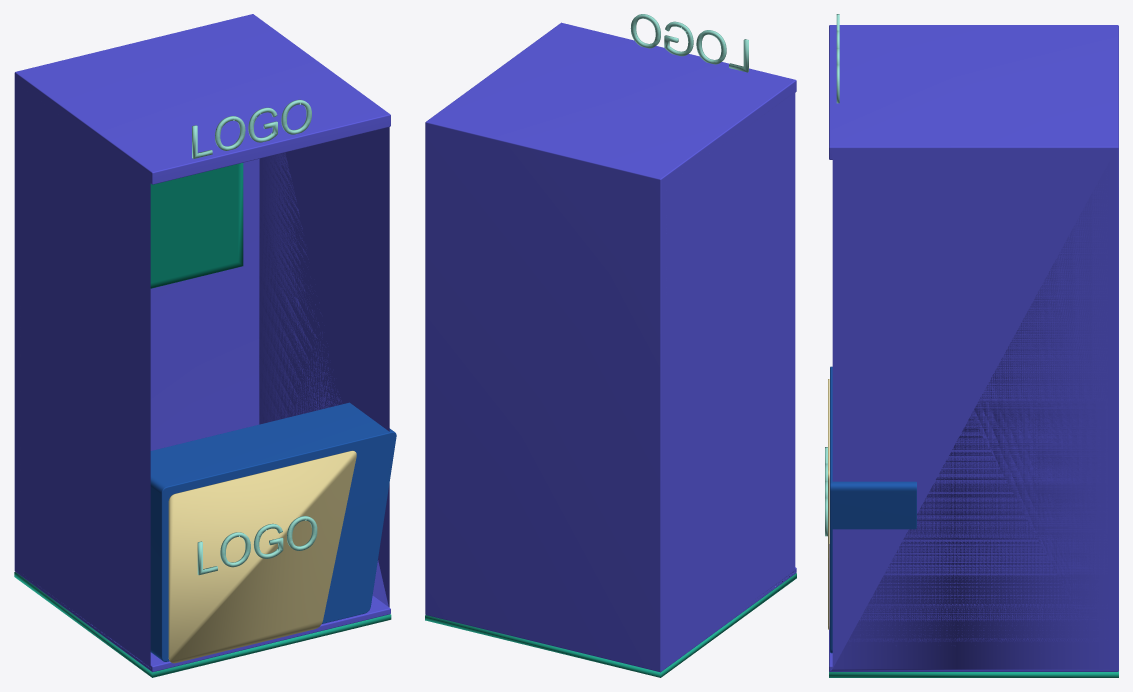
File: stand03.fbx
3 views of the same model, side by side, from view 1: azimuth 30°, elevation 25°; view 2: azimuth 150°, elevation 25°; view 3: azimuth 270°, elevation 25° (orthographic). The views are drawn at different scales.
Parts seen in each view (by area): view 1: Rectangle004, Box007, Box006, Box008, Box005, TextPlus001, TextPlus002; view 2: Rectangle004, Box005, TextPlus002; view 3: Rectangle004, Box006, Box005, Box007.
Boxes of the visible parts, x1,y1,x2,y2 form: Rectangle004: [14, 14, 390, 672]; Box007: [168, 450, 356, 663]; Box006: [150, 402, 396, 661]; Box008: [150, 163, 243, 288]; Box005: [14, 572, 391, 677]; TextPlus001: [197, 516, 317, 575]; TextPlus002: [192, 99, 311, 158]; Rectangle004: [425, 22, 796, 672]; Box005: [425, 573, 796, 677]; TextPlus002: [630, 14, 748, 72]; Rectangle004: [829, 25, 1118, 671]; Box006: [830, 366, 916, 653]; Box005: [829, 671, 1118, 677]; Box007: [828, 379, 829, 629].
Bounding box in the file's own units: 103 × 221 × 101.
